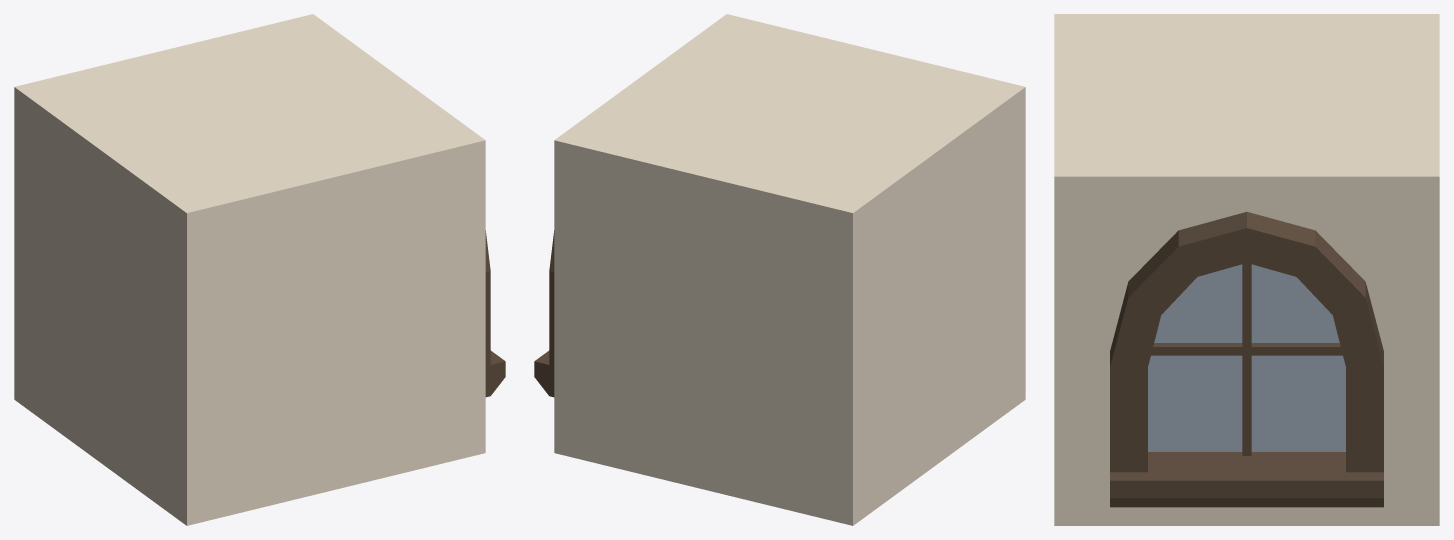
File: Stucco_Window_Rounded_Narrow.obj
3 views of the same model, side by side, from view 1: azimuth 30°, elevation 25°; view 2: azimuth 150°, elevation 25°; view 3: azimuth 270°, elevation 25° (orthographic). The views are drawn at different scales.
Parts seen in each view (by area): view 1: object2, object3; view 2: object2, object3; view 3: object2, object3, object1.
Boxes of the visible parts, x1,y1,x2,y2 form: object2: [14, 14, 485, 525]; object3: [485, 230, 505, 397]; object2: [554, 14, 1025, 525]; object3: [534, 230, 554, 397]; object2: [1054, 14, 1439, 525]; object3: [1110, 212, 1383, 507]; object1: [1151, 263, 1342, 455].
Bounding box in the file's own units: 1.15 × 1 × 1.
